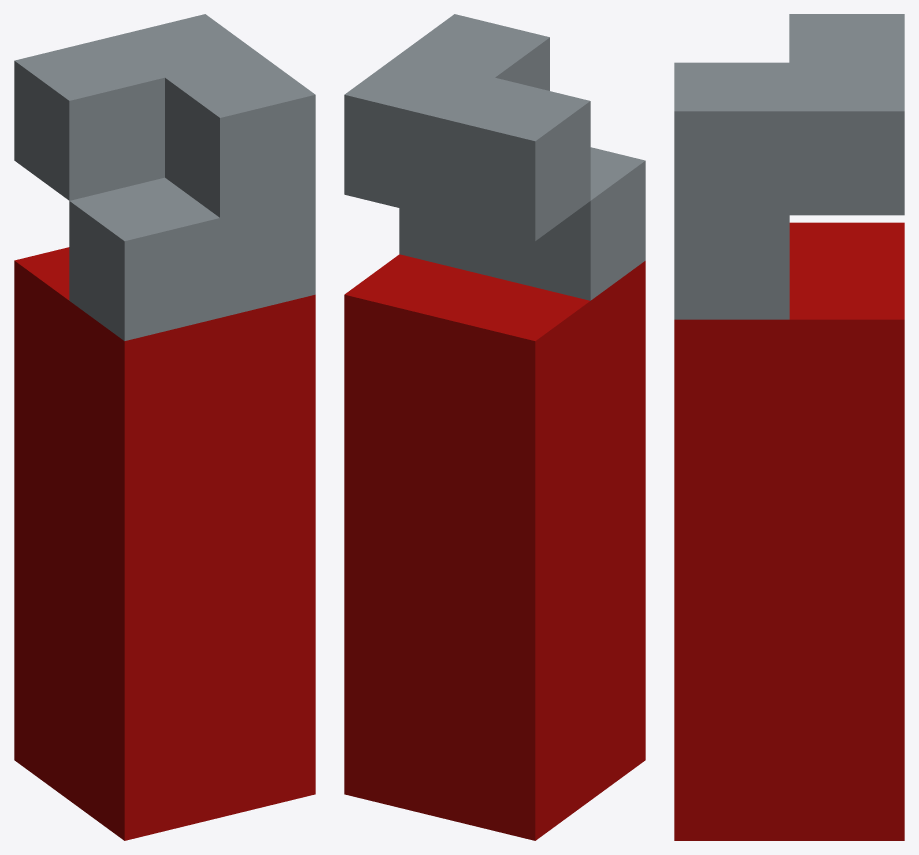
The model's file is lighter.glb.
The picture shows the model from 3 angles, left to right: view 1: azimuth 30°, elevation 25°; view 2: azimuth 150°, elevation 25°; view 3: azimuth 270°, elevation 25°; orthographic projection. The views are drawn at different scales.
Parts seen in each view (by area): view 1: lighter:lighter; view 2: lighter:lighter; view 3: lighter:lighter.
Boxes of the visible parts, x1=… form: lighter:lighter: x1=14, y1=14, x2=315, y2=840; lighter:lighter: x1=344, y1=14, x2=645, y2=840; lighter:lighter: x1=674, y1=14, x2=904, y2=840.
Size of the model in its own units: 0.02 by 0.07 by 0.02.
